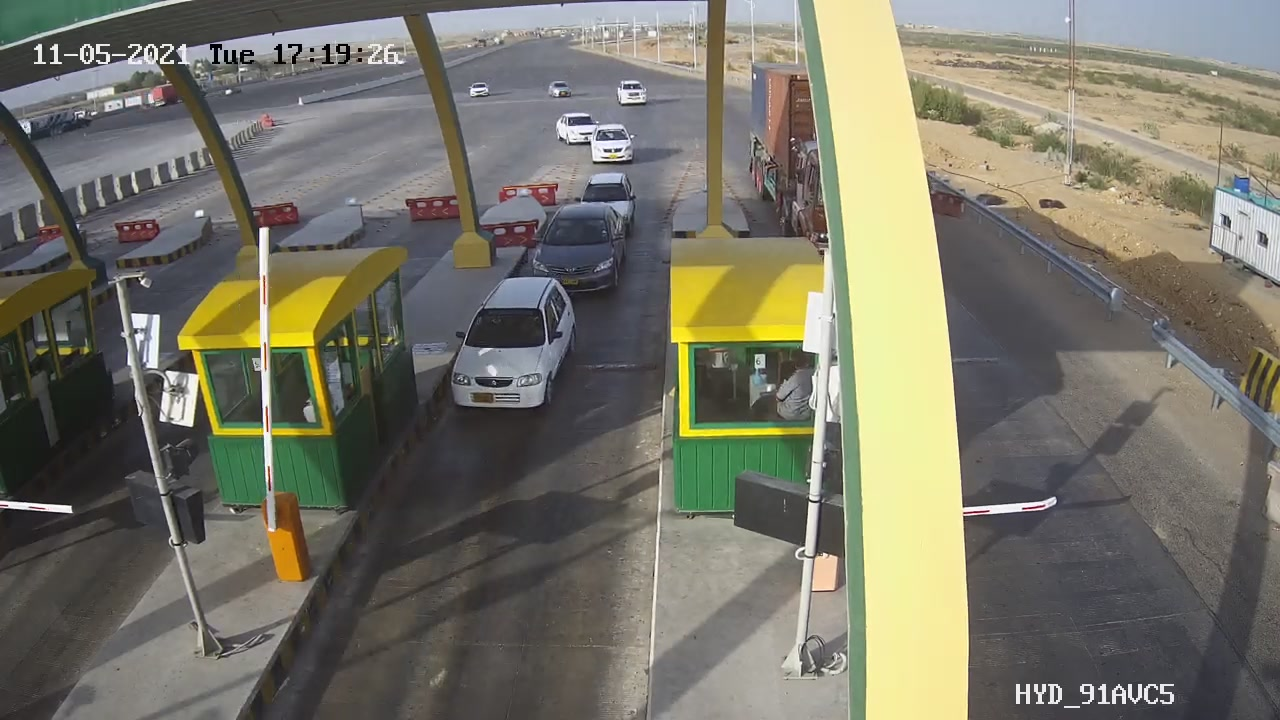F1: (438, 265, 592, 421), (521, 190, 640, 307)
